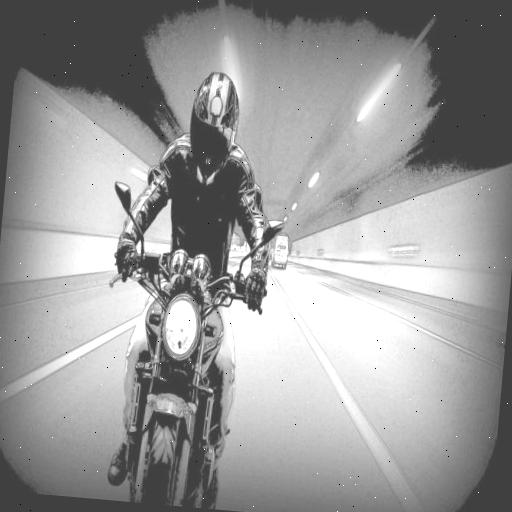helmet: (88, 50, 287, 512)
